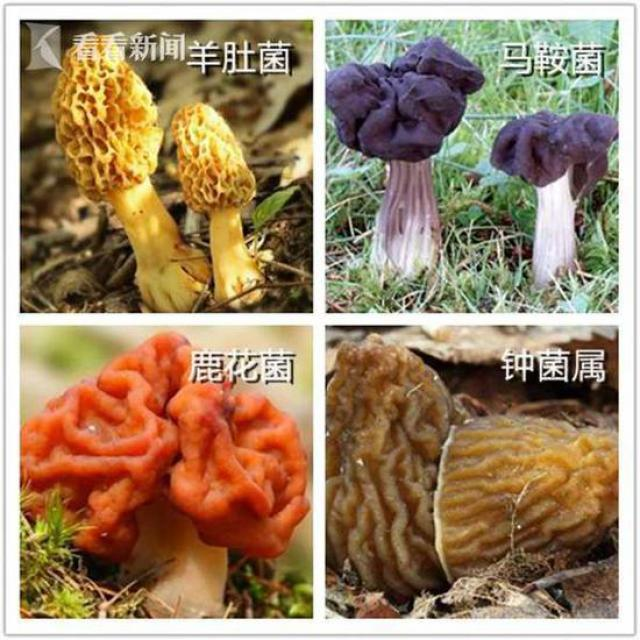Morchella esculenta: (56, 39, 209, 311), (173, 105, 259, 301)
